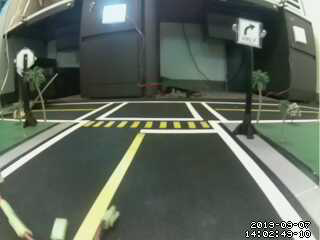Right_only_sign: (231, 9, 263, 53)
